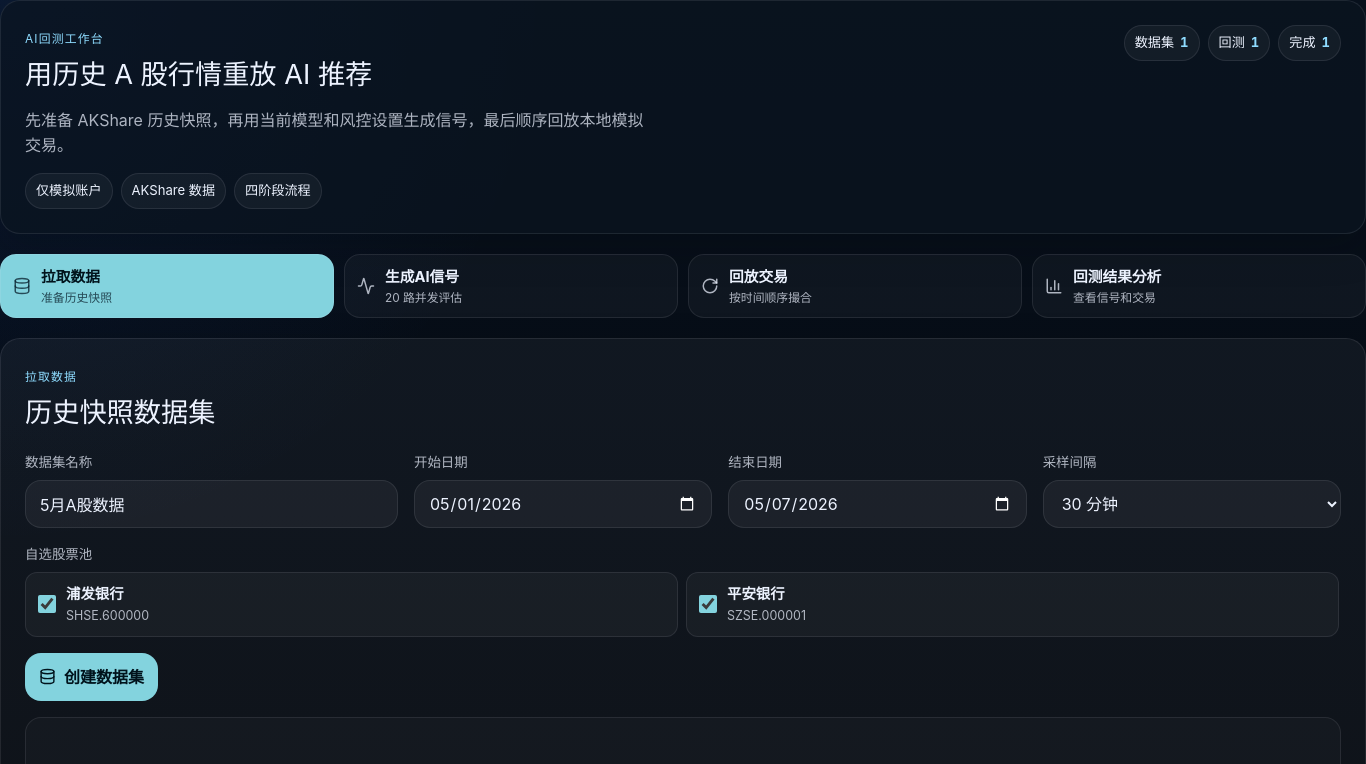
BacktestPage › shows completed summary, signal detail, and trade result
Click the tab "回测结果分析 查看信号和交易".
click(1117, 277)  # box [1032,254,1365,318]
(page scrolled)
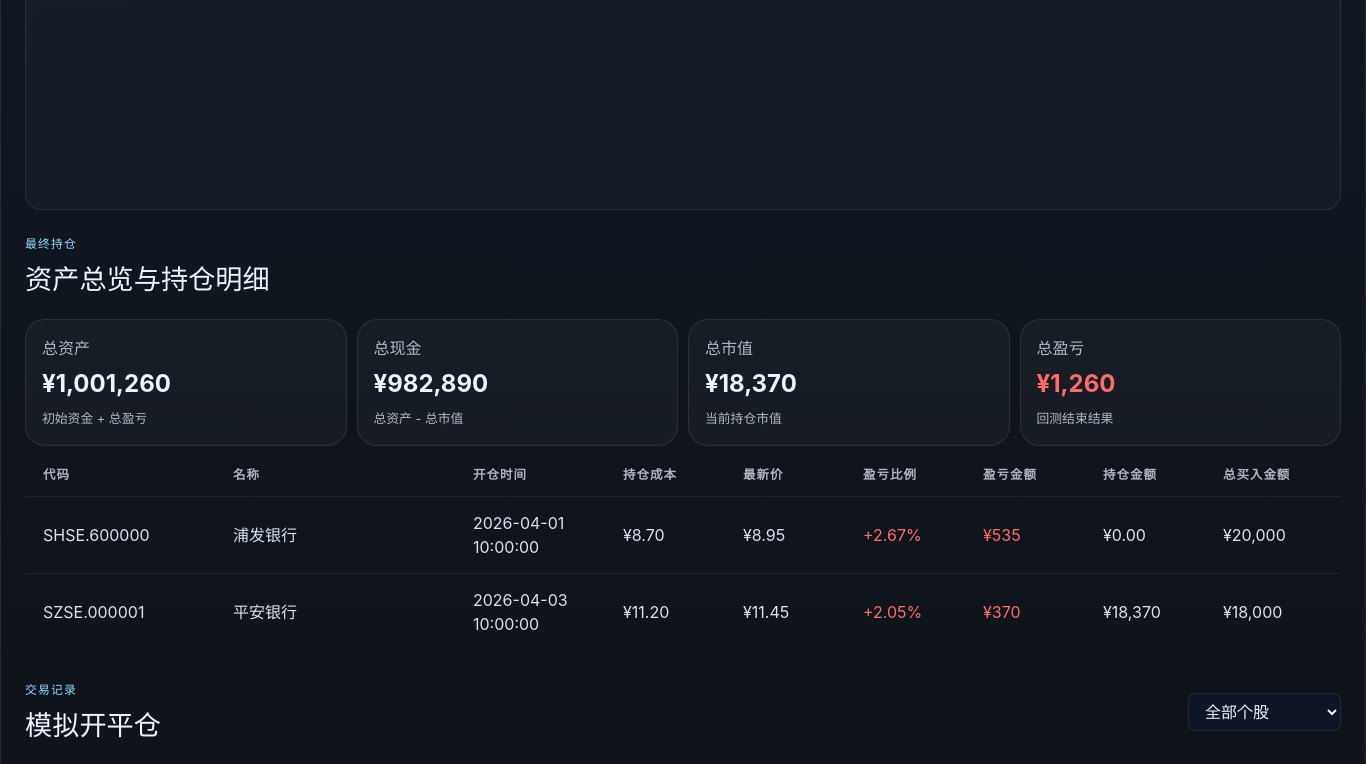
Result: the text "+2.67%" is shown at [863,525,922,545]
Result: the text "最终持仓" is shown at [25,237,77,251]
Result: the text "总资产" is shown at [42,338,90,358]
